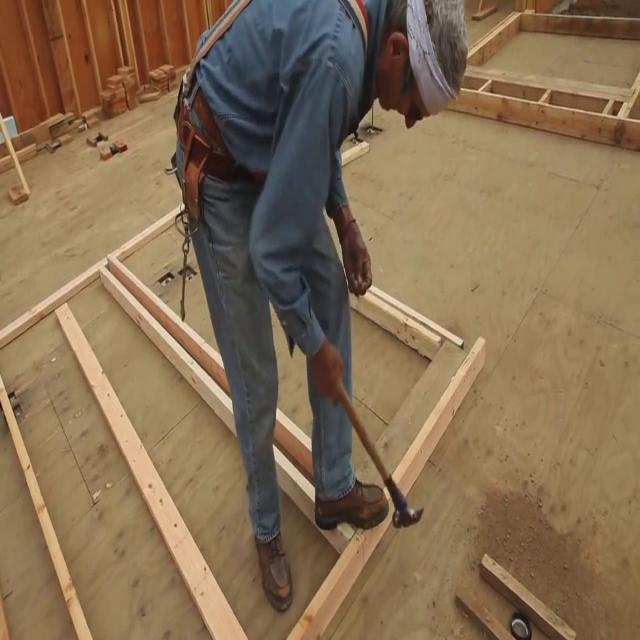hammer: (338, 380, 423, 528)
